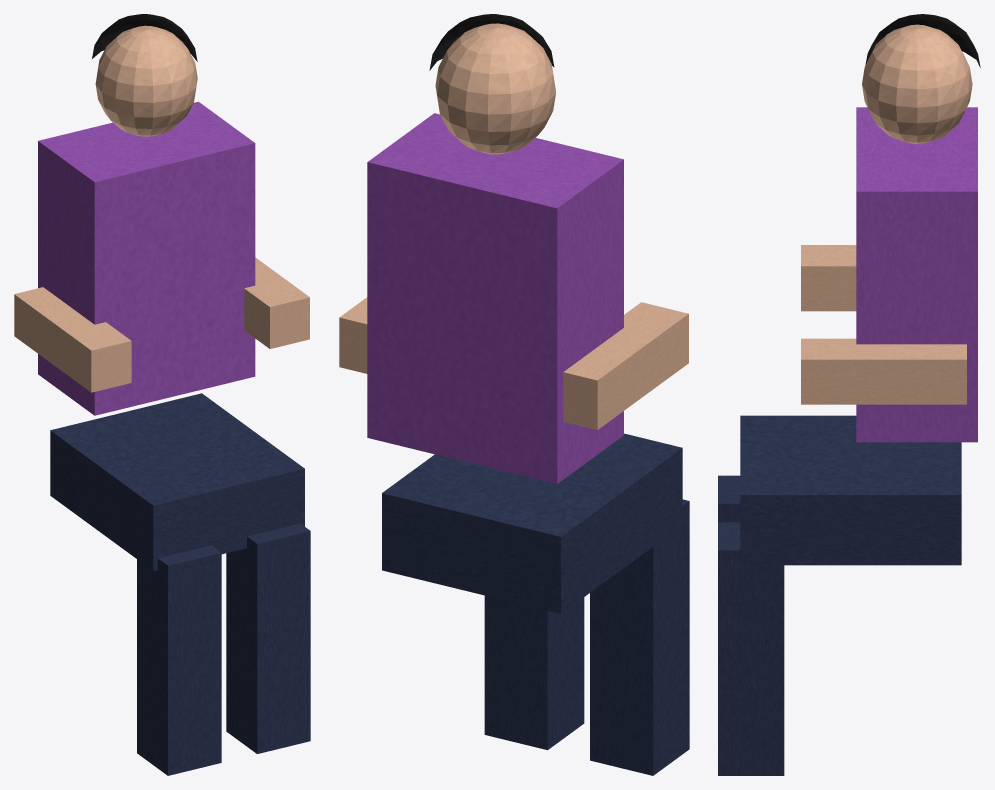
The model's file is Espectador5.obj.
3 views of the same model, side by side, from view 1: azimuth 30°, elevation 25°; view 2: azimuth 150°, elevation 25°; view 3: azimuth 270°, elevation 25° (orthographic). The views are drawn at different scales.
Size of the model in its own units: 0.49 by 1.43 by 0.475.
Materials: 1 (1 with a texture image).
